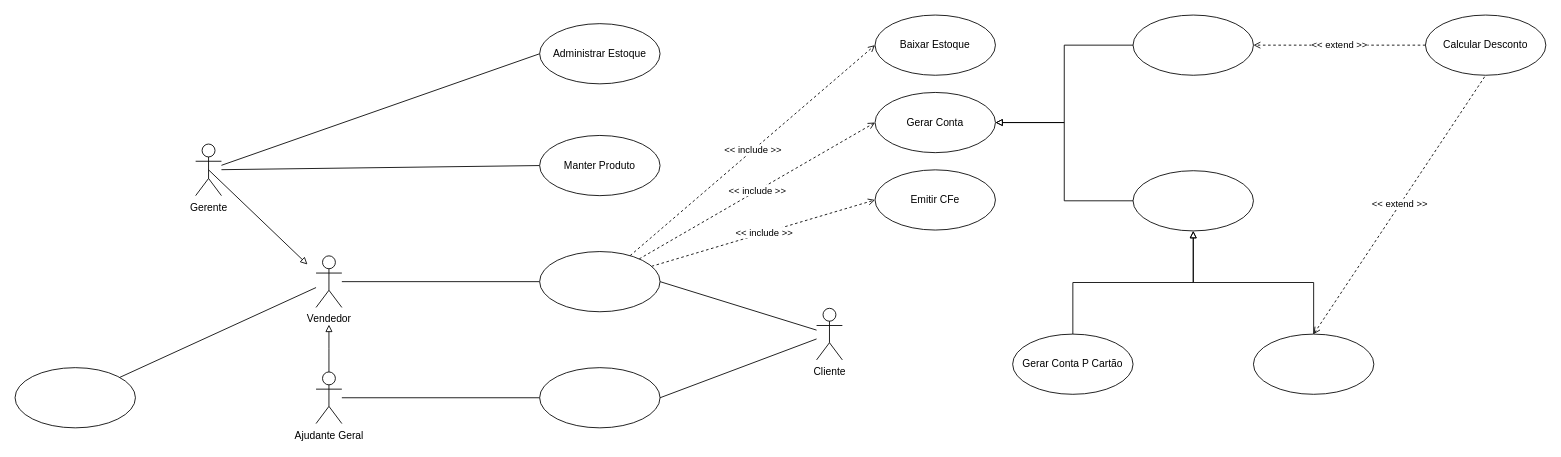
This 1561x457 diagram has some shape labels left out. Each missing label, with the centre of its shape:
"Efetuar Login" belongs at point 74,397.
"Efetuar Venda" belongs at point 599,281.
"Gerar Conta P Boleto" belongs at point 1313,363.
"Gerar Conta Prazo" belongs at point 1192,200.
"Gerar Conta Vista" belongs at point 1192,44.
"Receber Conta" belongs at point 599,397.
